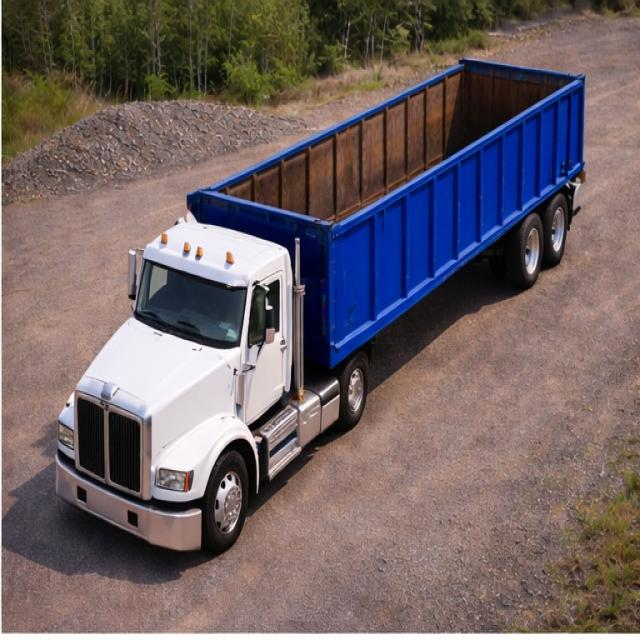trailer: (194, 55, 595, 222)
truck: (48, 34, 617, 557)
